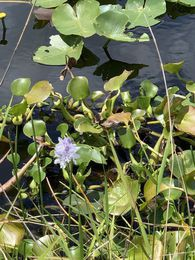water_hyacinth: (1, 0, 195, 221)
